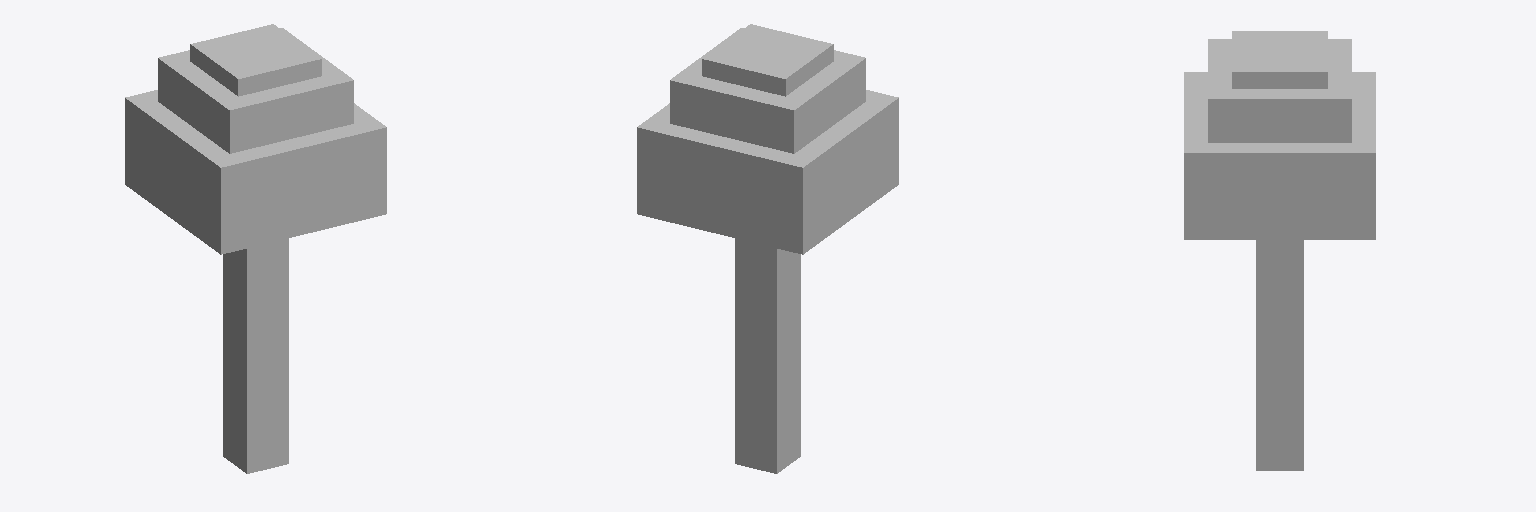
File: tree1.obj
3 views of the same model, side by side, from view 1: azimuth 30°, elevation 25°; view 2: azimuth 150°, elevation 25°; view 3: azimuth 270°, elevation 25° (orthographic).
Size of the model in its own units: 1 by 2.35 by 1.